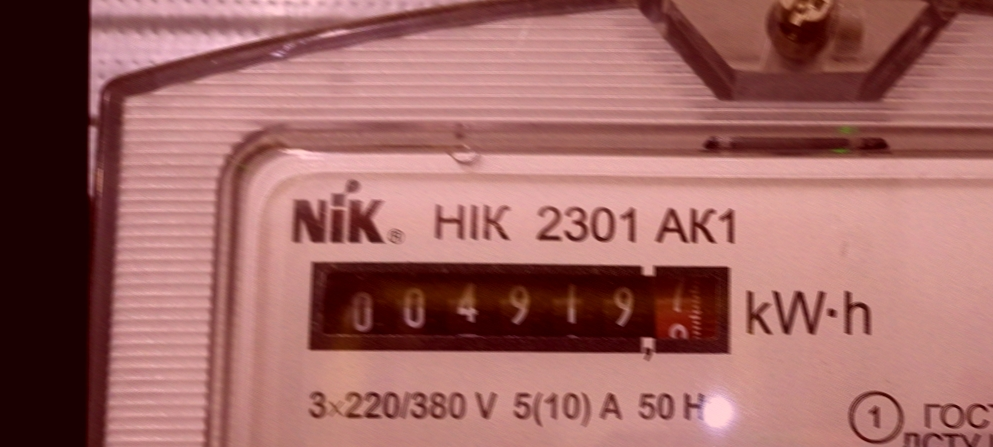0: (400, 285, 426, 330), (348, 289, 373, 333)
1: (562, 281, 577, 326)
4: (453, 280, 477, 323)
7: (663, 275, 687, 314)
9: (610, 283, 633, 330), (506, 284, 529, 327)
screen: (296, 248, 746, 372)
